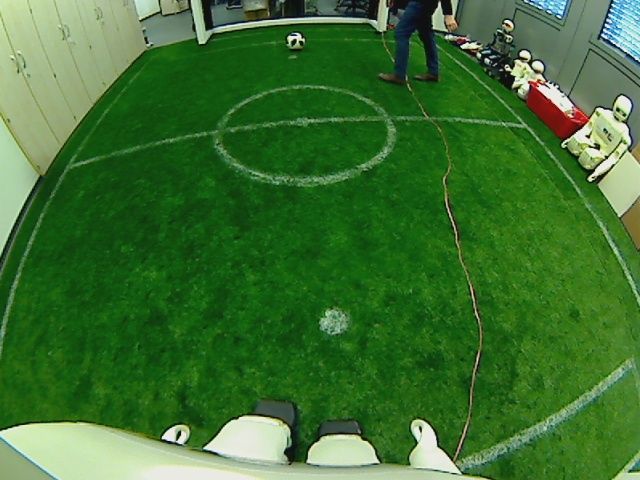ball: (285, 31, 306, 53)
